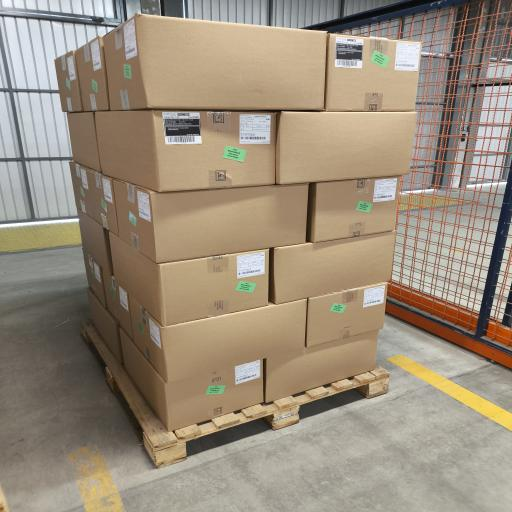pallet: (81, 321, 389, 467), (0, 488, 8, 511)
